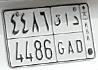D: (73, 15, 84, 54)
G: (54, 14, 65, 56)
